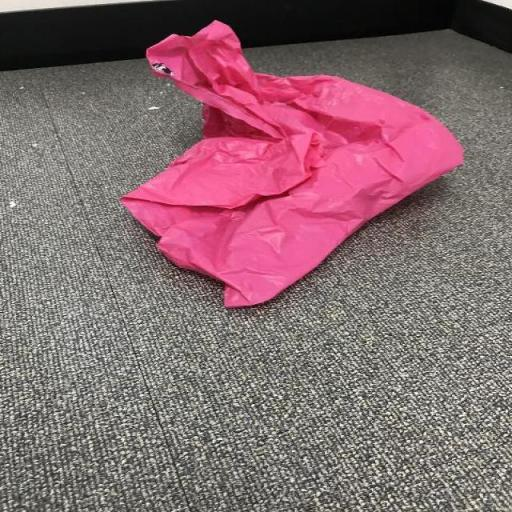plastic-bag: (110, 17, 466, 313)
